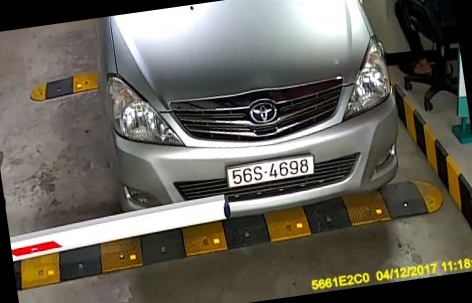plate: (212, 148, 318, 190)
